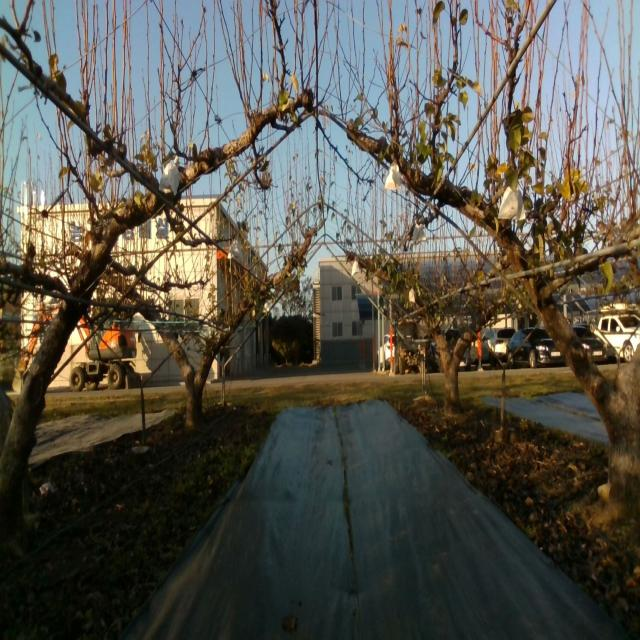pearbags: (498, 185, 526, 222), (158, 162, 180, 198), (384, 160, 402, 191), (411, 218, 427, 249), (227, 240, 243, 264)
